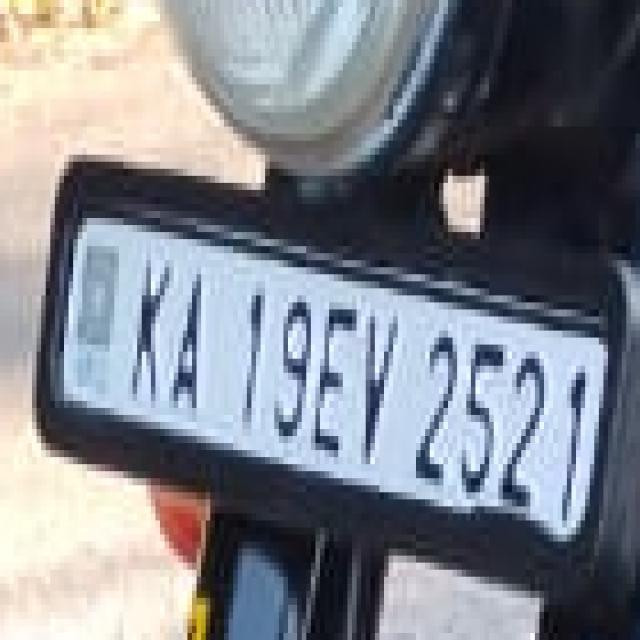1: (545, 353, 599, 537), (229, 276, 275, 433)
5: (455, 325, 511, 499)
9: (265, 283, 319, 446)
A: (165, 245, 216, 418)
E: (304, 293, 362, 471)
K: (119, 244, 180, 411)
V: (350, 307, 410, 474)
